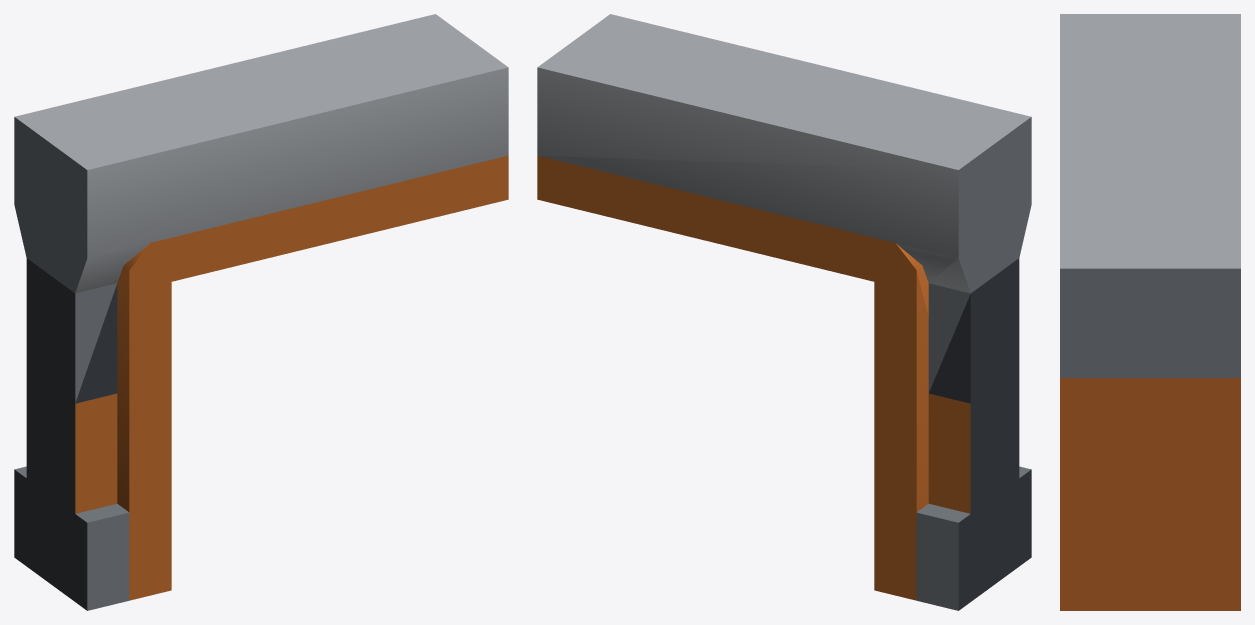
Rendered from Kit_wall-door-edge-banner.fbx.
3 renders of one model, left to right at view 1: azimuth 30°, elevation 25°; view 2: azimuth 150°, elevation 25°; view 3: azimuth 270°, elevation 25°, orthographic. The views are drawn at different scales.
Parts seen in each view (by area): view 1: Kit_wall-door-edge-banner; view 2: Kit_wall-door-edge-banner; view 3: Kit_wall-door-edge-banner.
Boxes of the visible parts, x1,y1,x2,y2 form: Kit_wall-door-edge-banner: (14,14,508,610); Kit_wall-door-edge-banner: (537,14,1031,610); Kit_wall-door-edge-banner: (1060,14,1240,610).
Size of the model in its own units: 1 by 1 by 0.3.
